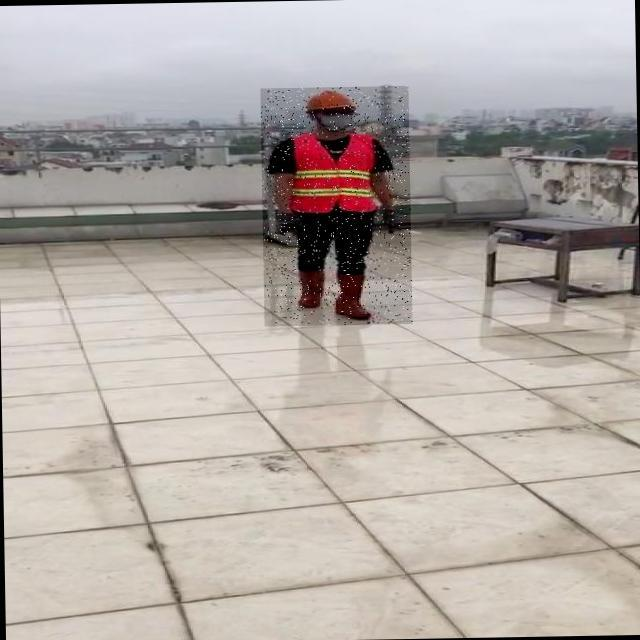Gloves: (372, 207, 401, 236), (276, 217, 301, 237)
Helmet: (300, 88, 358, 113)
Human: (261, 85, 413, 326)
Safety Boot: (333, 273, 377, 320), (297, 269, 326, 307)
Safety Vest: (287, 131, 376, 215)
